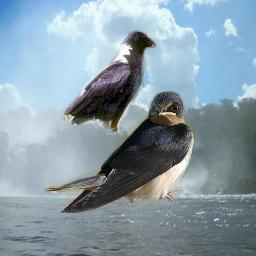Crow: (60, 27, 157, 135)
Swallow: (43, 91, 195, 213)
